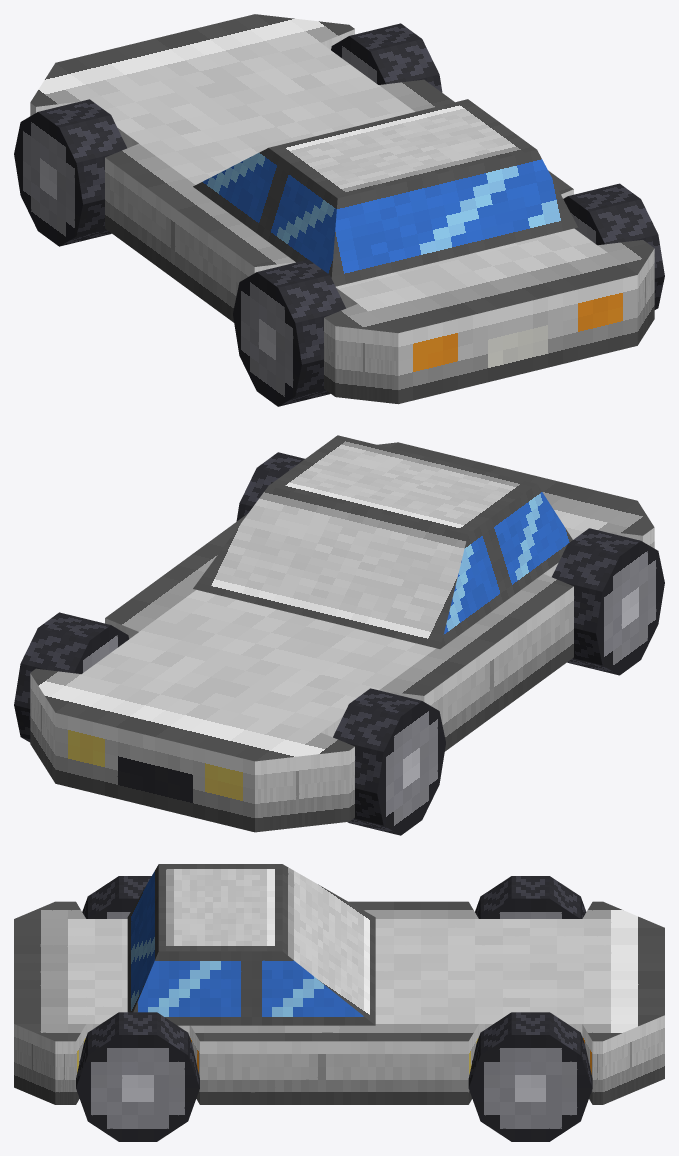
Rendered from car_base1.glb.
3 renders of one model, top to bottom at view 1: azimuth 30°, elevation 25°; view 2: azimuth 150°, elevation 25°; view 3: azimuth 270°, elevation 25°, orthographic. The views are drawn at different scales.
Parts seen in each view (by area): view 1: Body, Cabin, Wheel_RL, Wheel_FL, Wheel_RR, Wheel_FR; view 2: Body, Cabin, Wheel_FL, Wheel_RL, Wheel_FR, Wheel_RR; view 3: Body, Cabin, Wheel_FR, Wheel_RR, Wheel_FL, Wheel_RL.
Part boxes in pixels (<box>): Body: <box>30,14,654,404</box>; Cabin: <box>193,99,578,286</box>; Wheel_RL: <box>233,259,345,406</box>; Wheel_FL: <box>14,99,126,246</box>; Wheel_RR: <box>563,183,664,309</box>; Wheel_FR: <box>331,23,442,92</box>; Body: <box>30,442,654,832</box>; Cabin: <box>193,435,572,648</box>; Wheel_FL: <box>333,688,445,835</box>; Wheel_RL: <box>552,528,664,675</box>; Wheel_FR: <box>14,612,128,742</box>; Wheel_RR: <box>236,452,304,521</box>; Body: <box>14,901,664,1104</box>; Cabin: <box>127,864,375,1025</box>; Wheel_FR: <box>468,1012,592,1141</box>; Wheel_RR: <box>76,1012,199,1141</box>; Wheel_FL: <box>475,876,586,918</box>; Wheel_RL: <box>82,876,151,918</box>.
Bounding box in the file's own units: 1.82 × 0.8253 × 3.15.
Materials: 1 (1 with a texture image).
